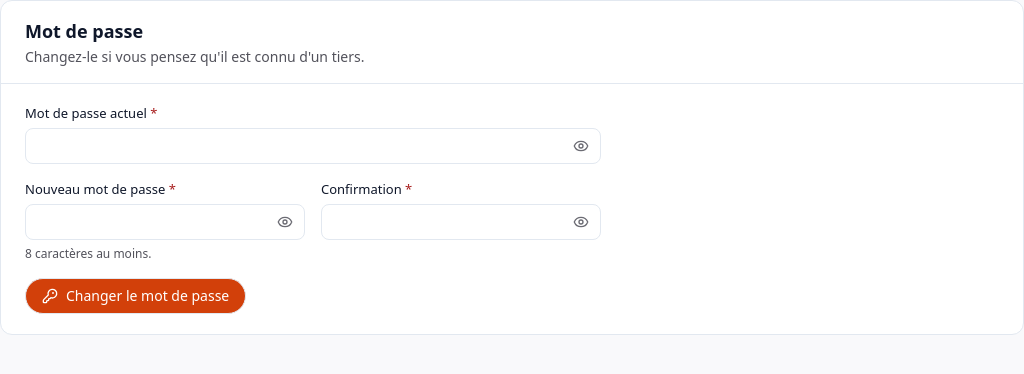
PasswordCard › checks the confirmation first, then puts the server's refusal under its field
Type "ancien" into the password field labelled "Mot de passe actuel *".
click(313, 146); type("ancien")  # box 25,128 -> 601,164
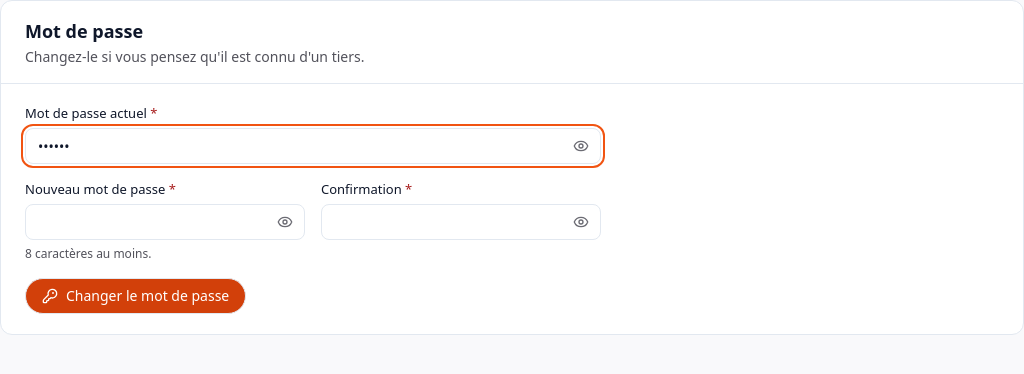
Type "Nouveau-2026" into the password field labelled "Nouveau mot de passe *".
click(165, 222); type("Nouveau-2026")  # box 25,204 -> 305,240
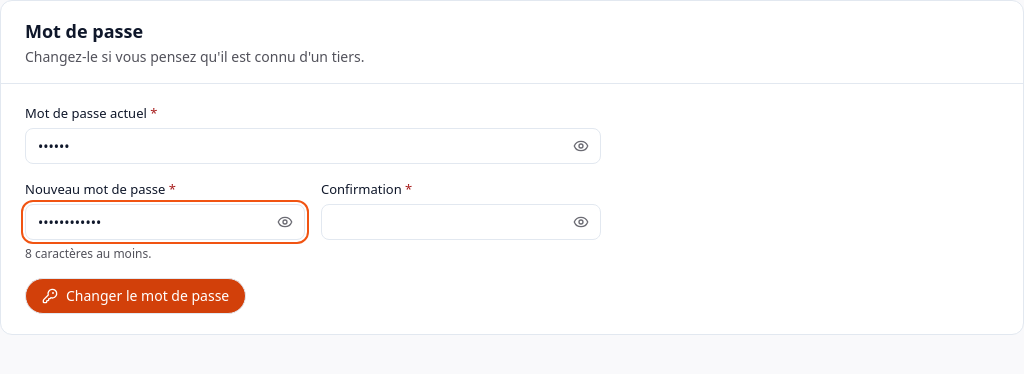
Type "Autre-2026" into the password field labelled "Confirmation *".
click(461, 222); type("Autre-2026")  # box 321,204 -> 601,240
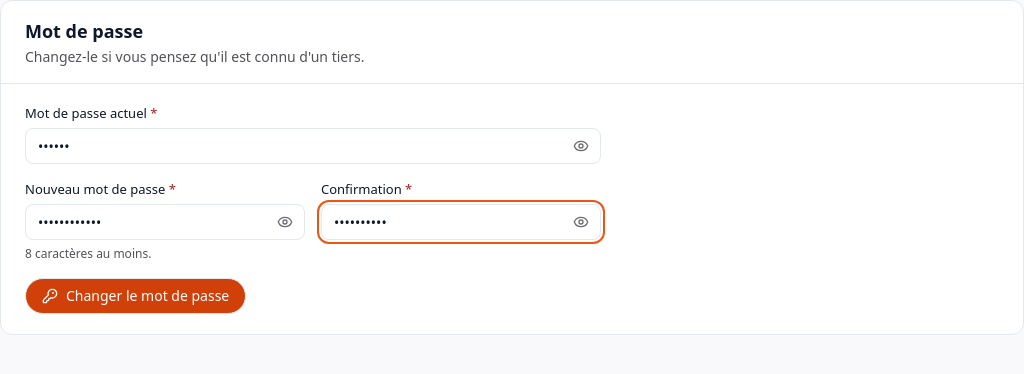
Click the button "Changer le mot de passe".
click(136, 296)  # box 25,278 -> 246,314
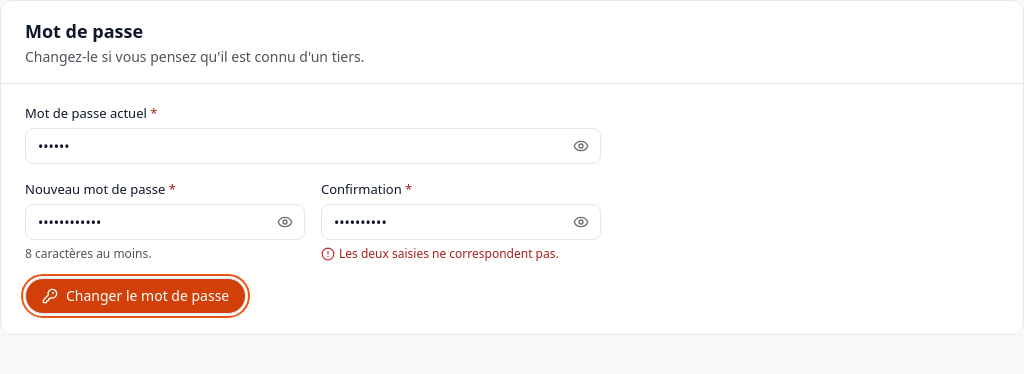
Expected: the text "Les deux saisies ne correspondent pas." is shown, 339,246 -> 559,262
Type "Nouveau-2026" into the password field labelled "Confirmation *".
click(461, 222); type("Nouveau-2026")  # box 321,204 -> 601,240
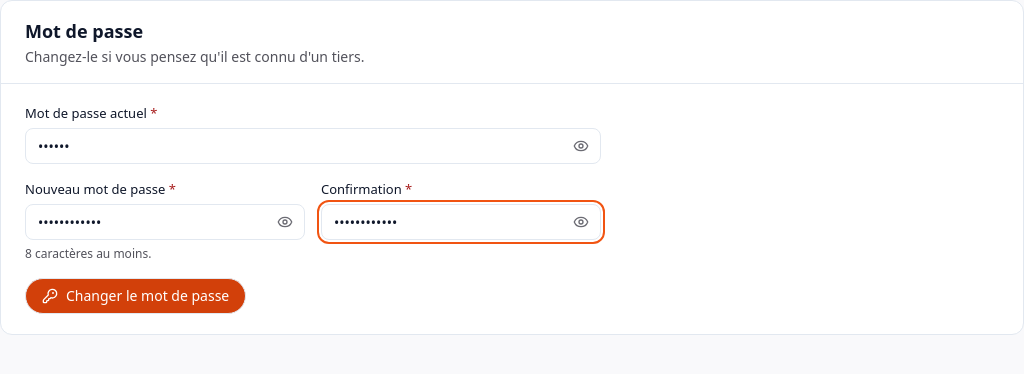
Click the button "Changer le mot de passe".
click(136, 296)  # box 25,278 -> 246,314
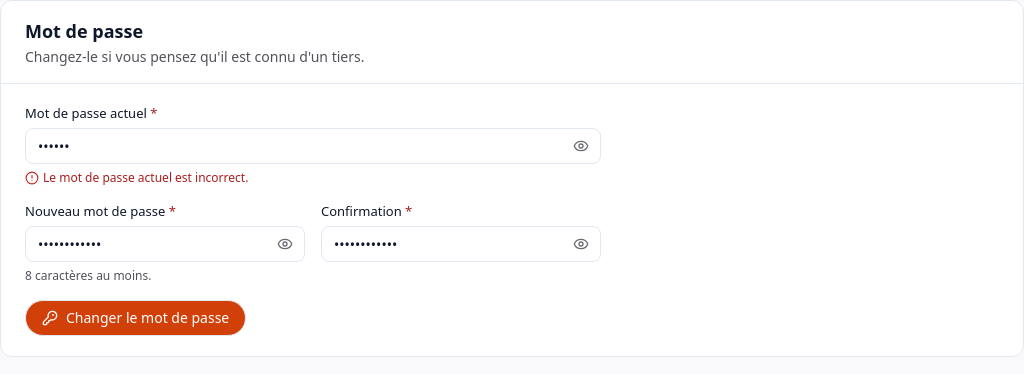
Expected: the text "Le mot de passe actuel est incorrect." is shown, 43,170 -> 248,186
